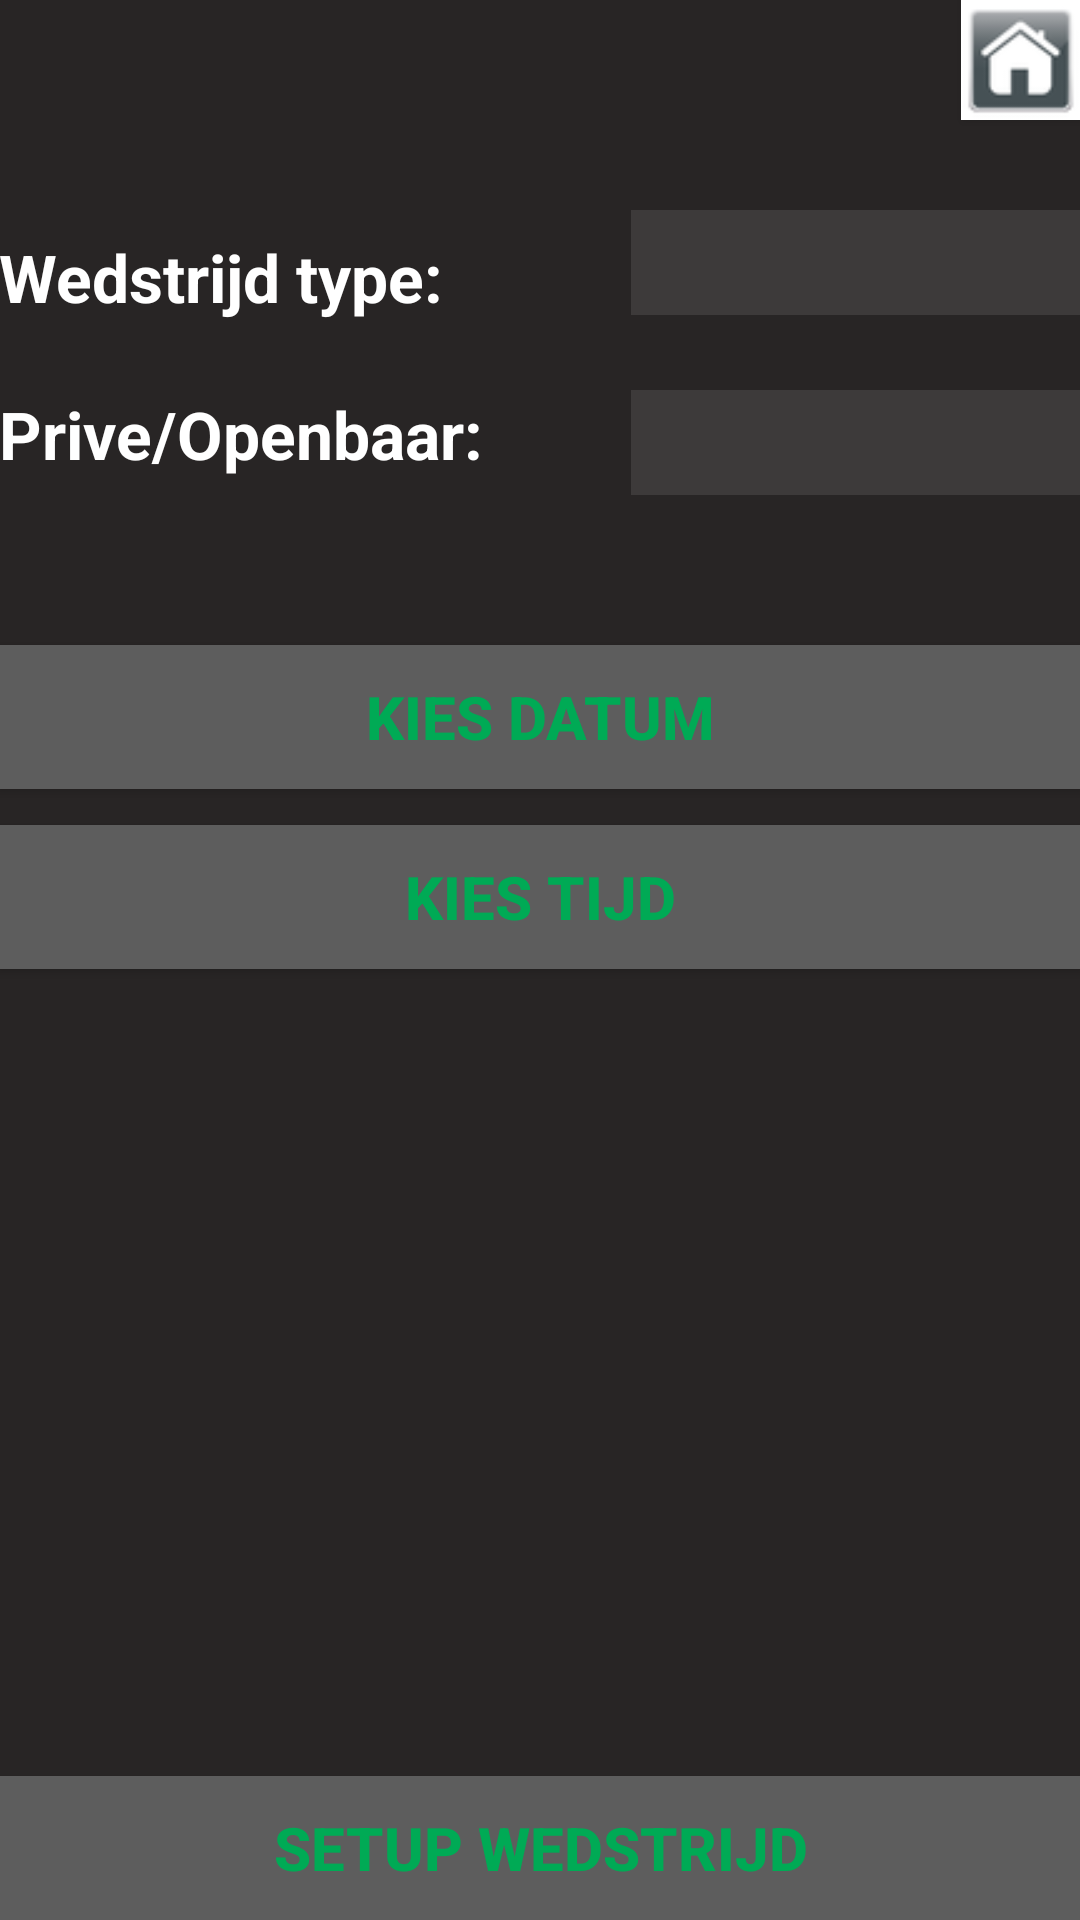

Named icons in this screenshot (1080px×1920px) and their bounding boxes, (x1, y1, x2, y2):
home: (961, 0, 1080, 120)
